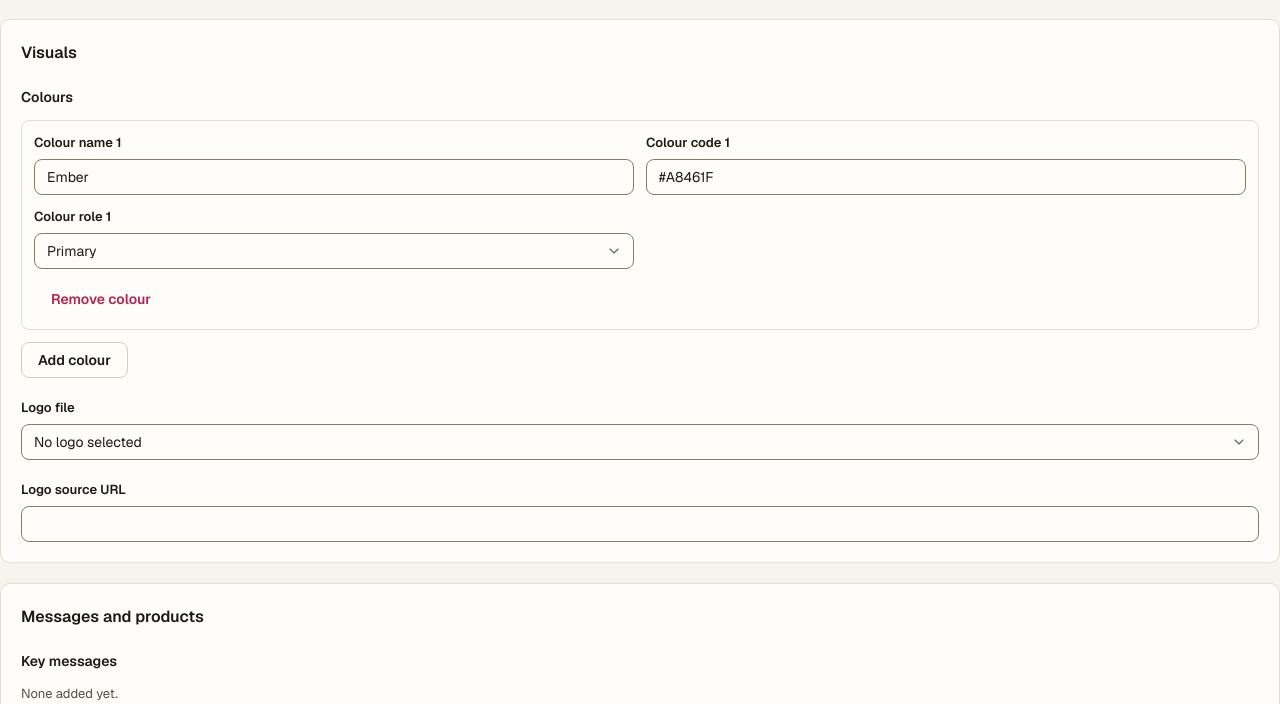
it: adding and removing a colour edits the structured content
(page scrolled)
Step 1. Click the button "Add colour" → (74, 360), box [21,342,128,378]
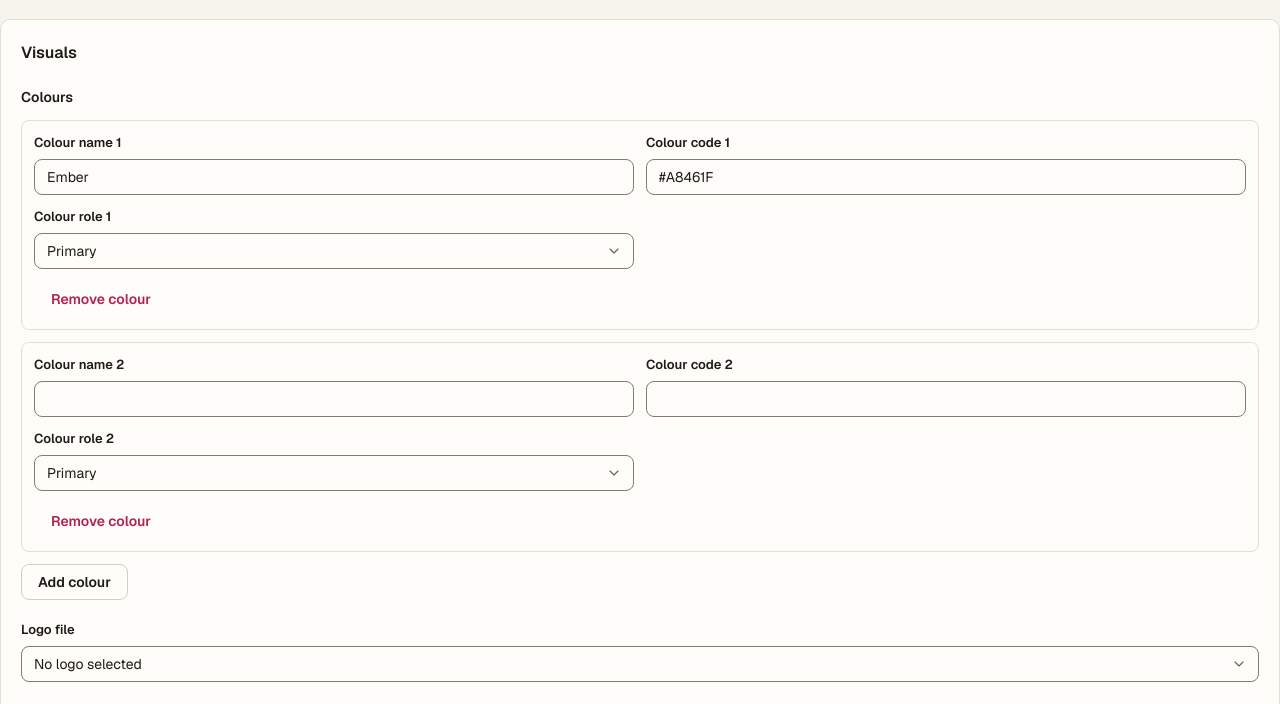
Check: the field labelled "Colour code 2" is shown, box [646,381,1246,417]
Step 2. Click the button with aria-label "Remove colour 2" → (101, 521), box [34,503,168,539]
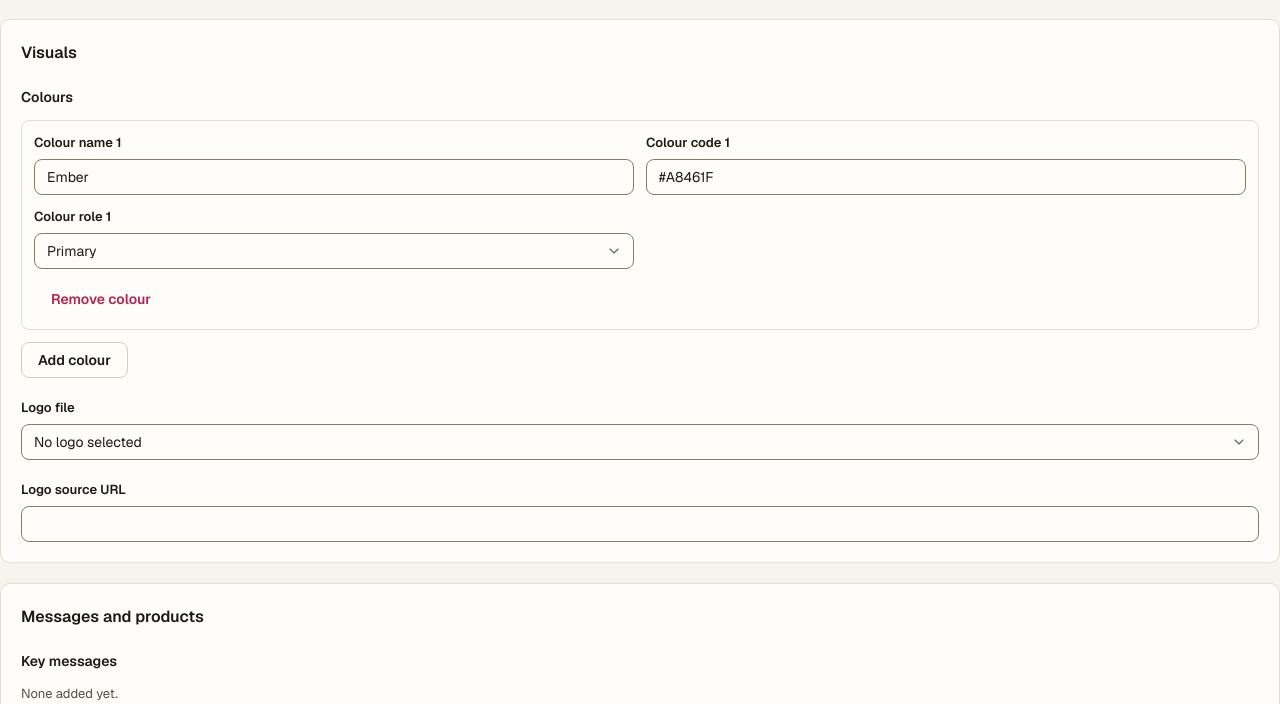
Check: the label labelled "Colour code 2" is gone
